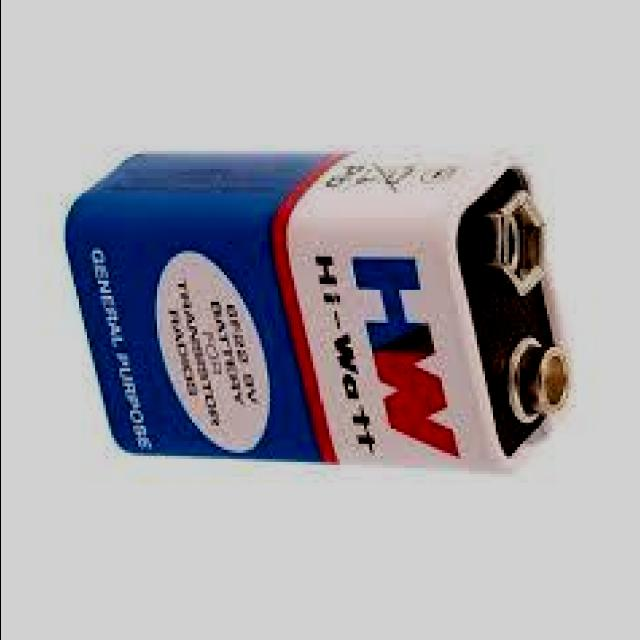9V: (54, 134, 573, 484)
